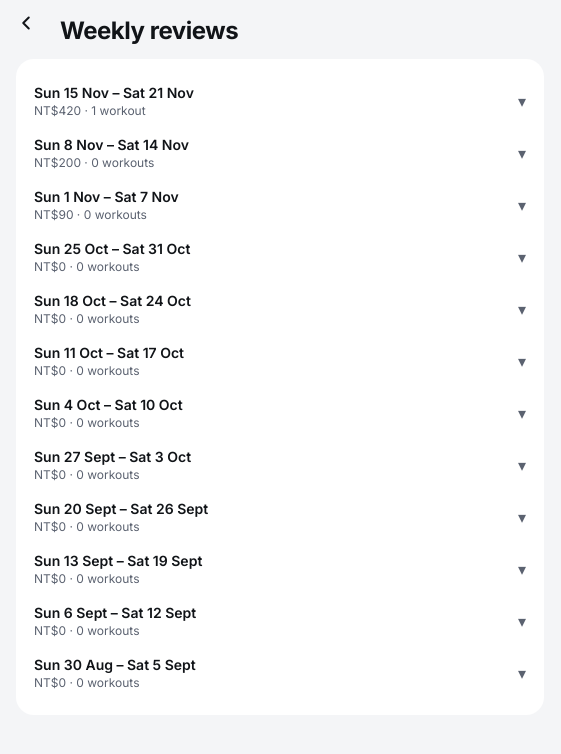
Test case: Reviews lists the last 12 weeks, each opening to its review
expect the button "Sun 15 Nov – Sat 21 Nov NT$420 · 1 workout ▾" is shown: met, box [34, 75, 526, 127]
Click the button "Sun 8 Nov – Sat 14 Nov NT$200 · 0 workouts ▾" at (111, 144), box [34, 127, 526, 179]
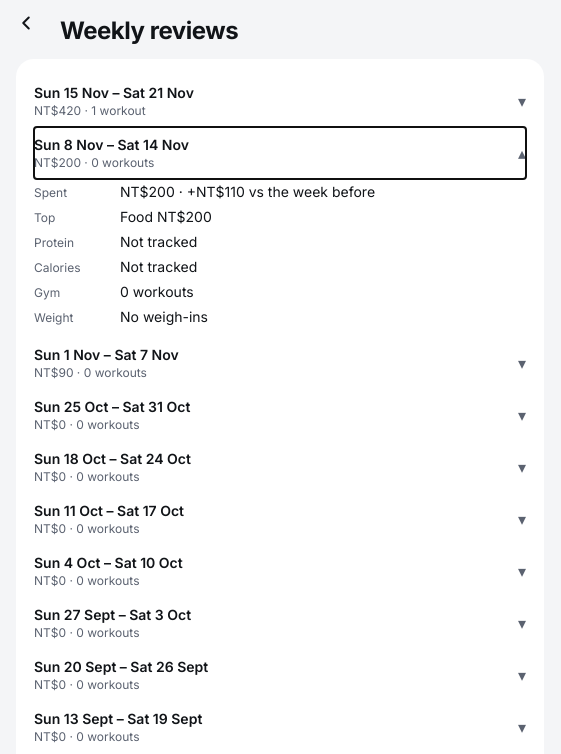
expect the element named "Week of Sun 8 Nov" shows "NT$200": met, box [120, 183, 375, 200]
